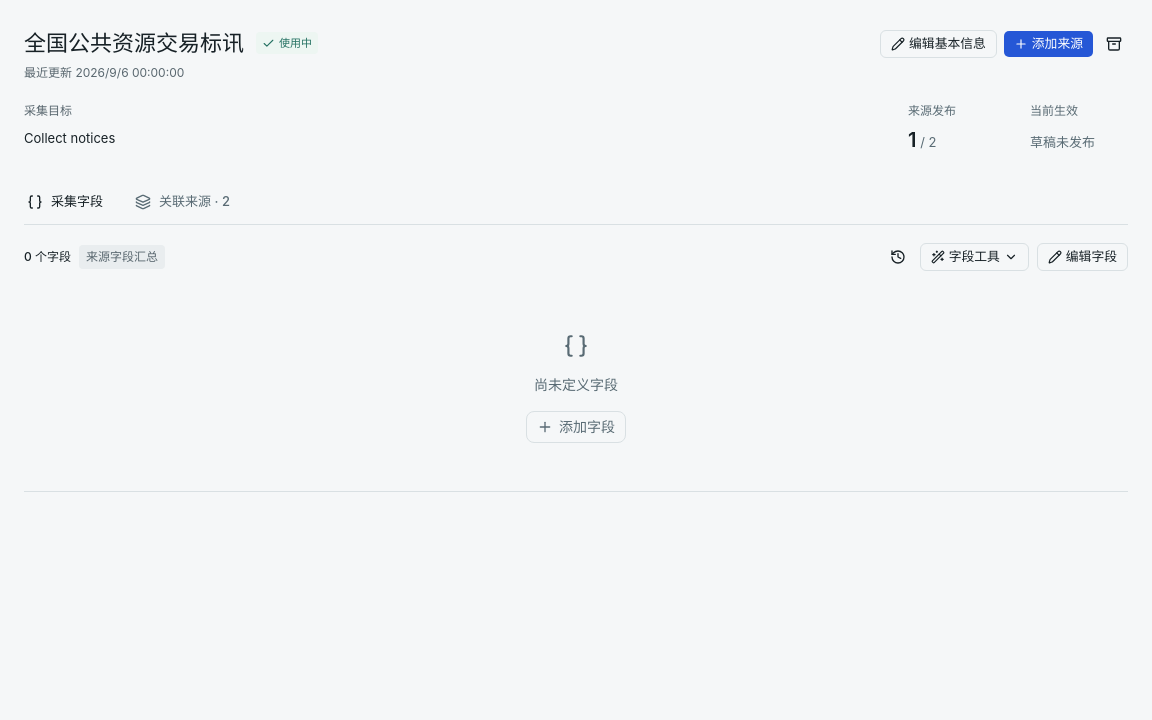
requirement CRUD › archives linked requirements instead of deleting them and supports restore
The width and height of the screenshot is (1152, 720).
Click the button named "归档需求": (1114, 44) [1100,30,1128,58]
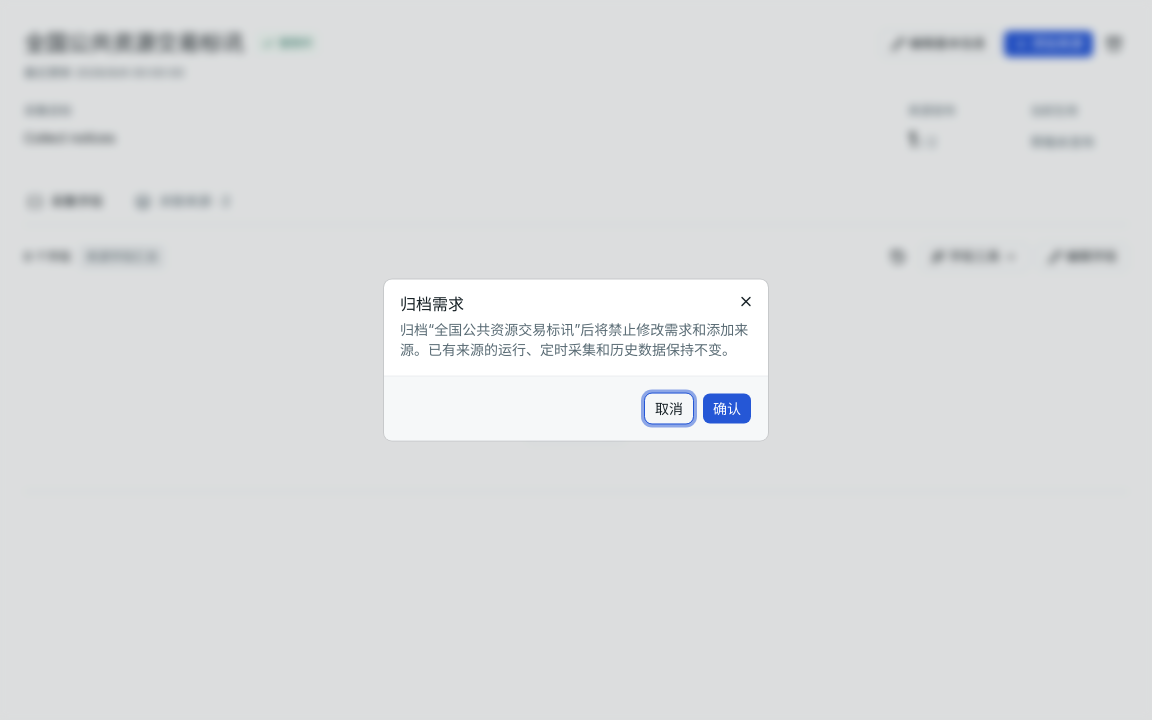
Click the button "确认": (727, 408) [702,392,752,424]
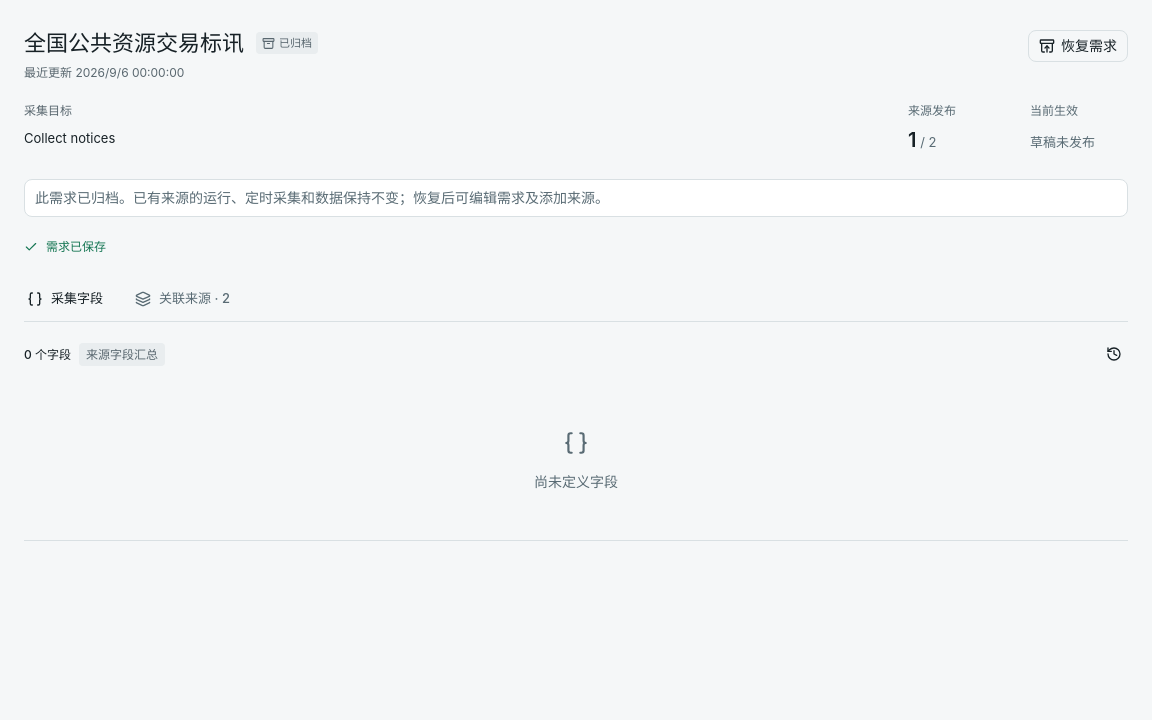
Click the button "恢复需求": (1078, 46) [1028,30,1128,62]
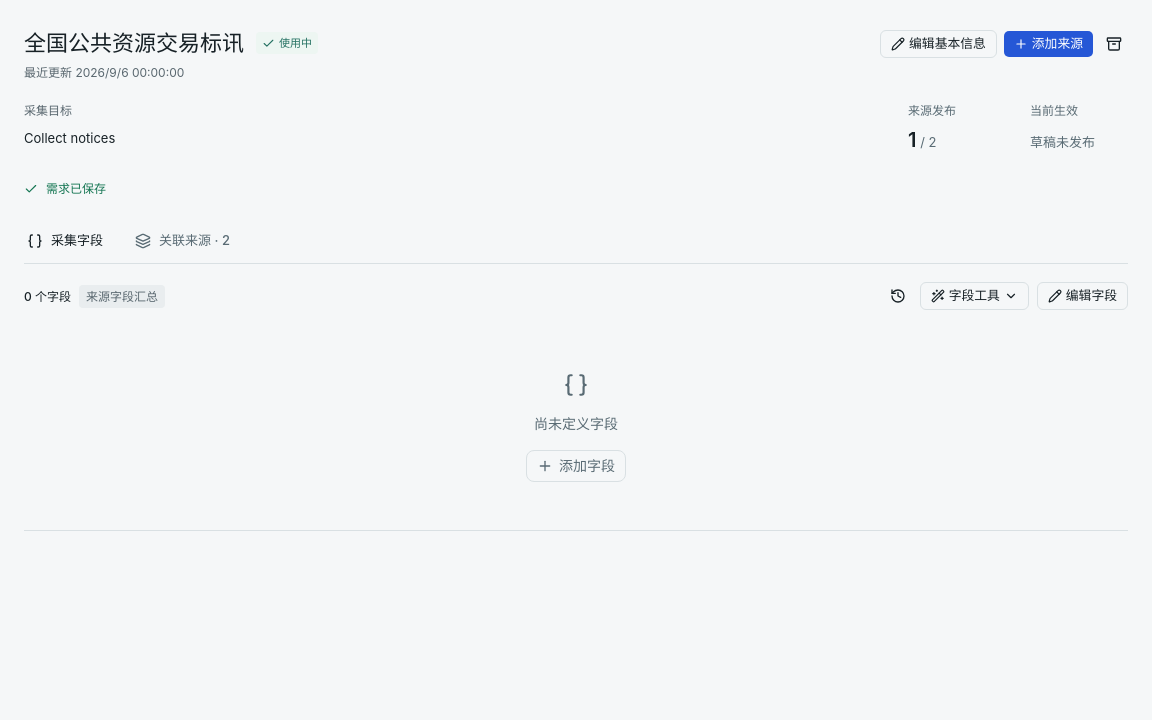
Expected: the button "编辑基本信息" is shown, [880,30,997,58]
